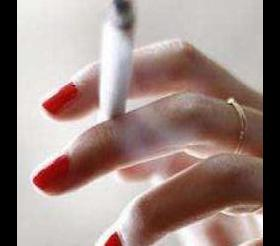Cigarette: (93, 0, 139, 137)
